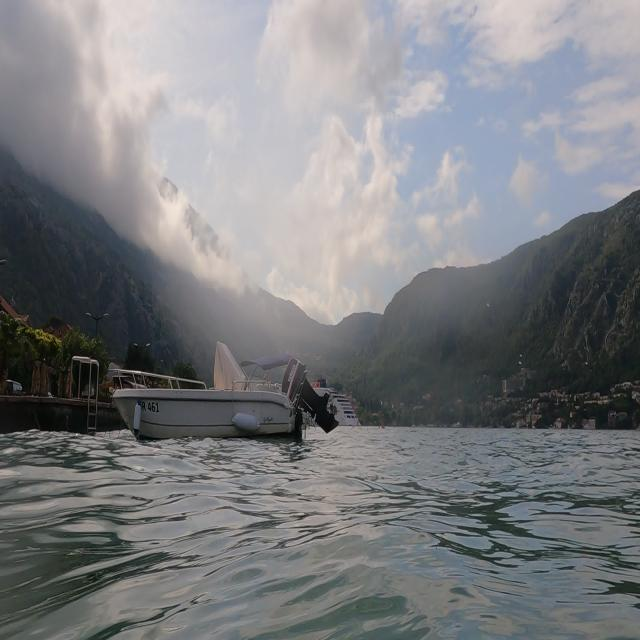boat: (108, 338, 340, 444)
